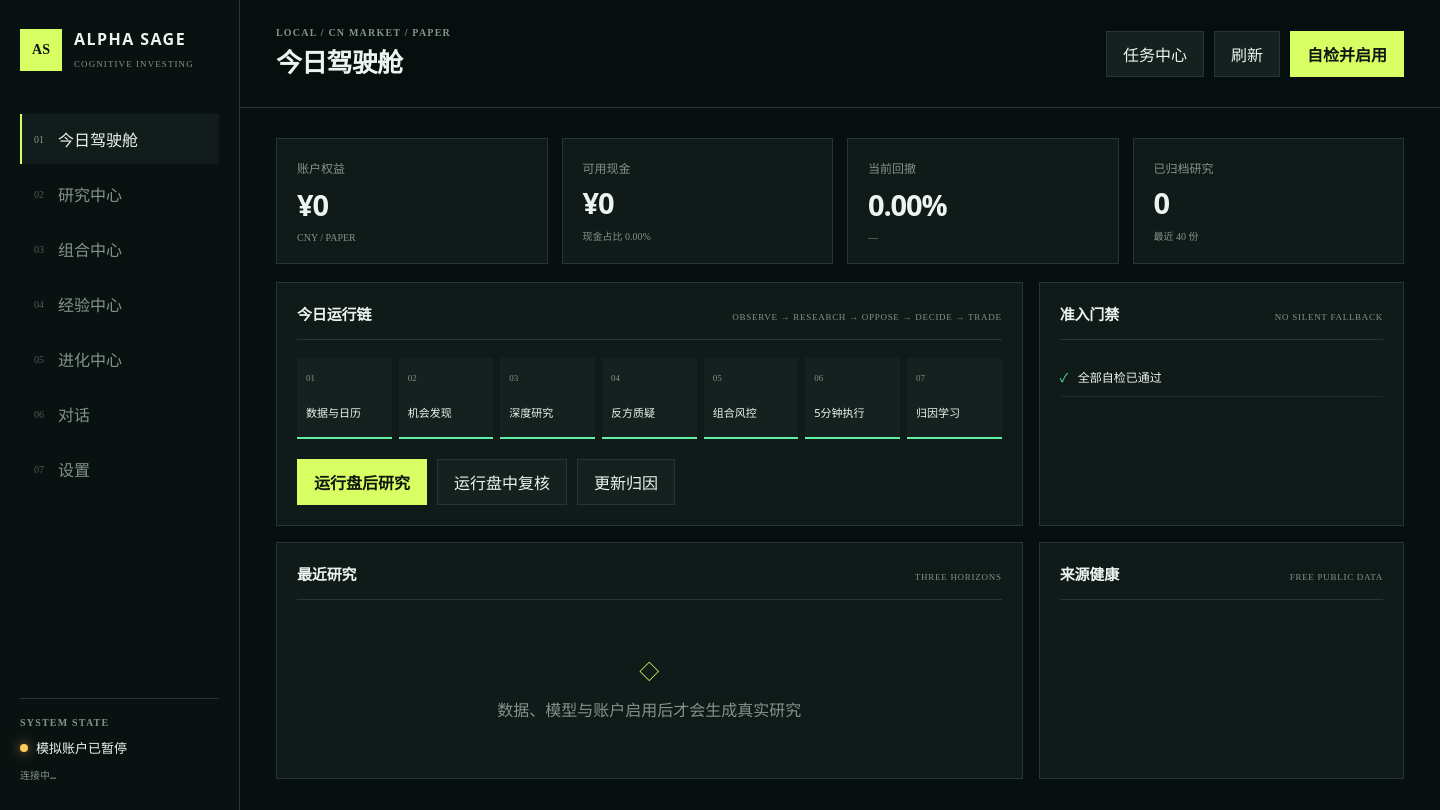
Test: DashboardShell › renders the local investment workbench navigation and task center
Expected: the text "ALPHA SAGE" is shown, [74,28,194,50]
Expected: the button "01 今日驾驶舱" is shown, [20,114,219,164]
What coordinates should you click on to do the following:
click the button "任务中心"
I would click on:
 (1155, 54)
Its box is [1106,30,1204,76].
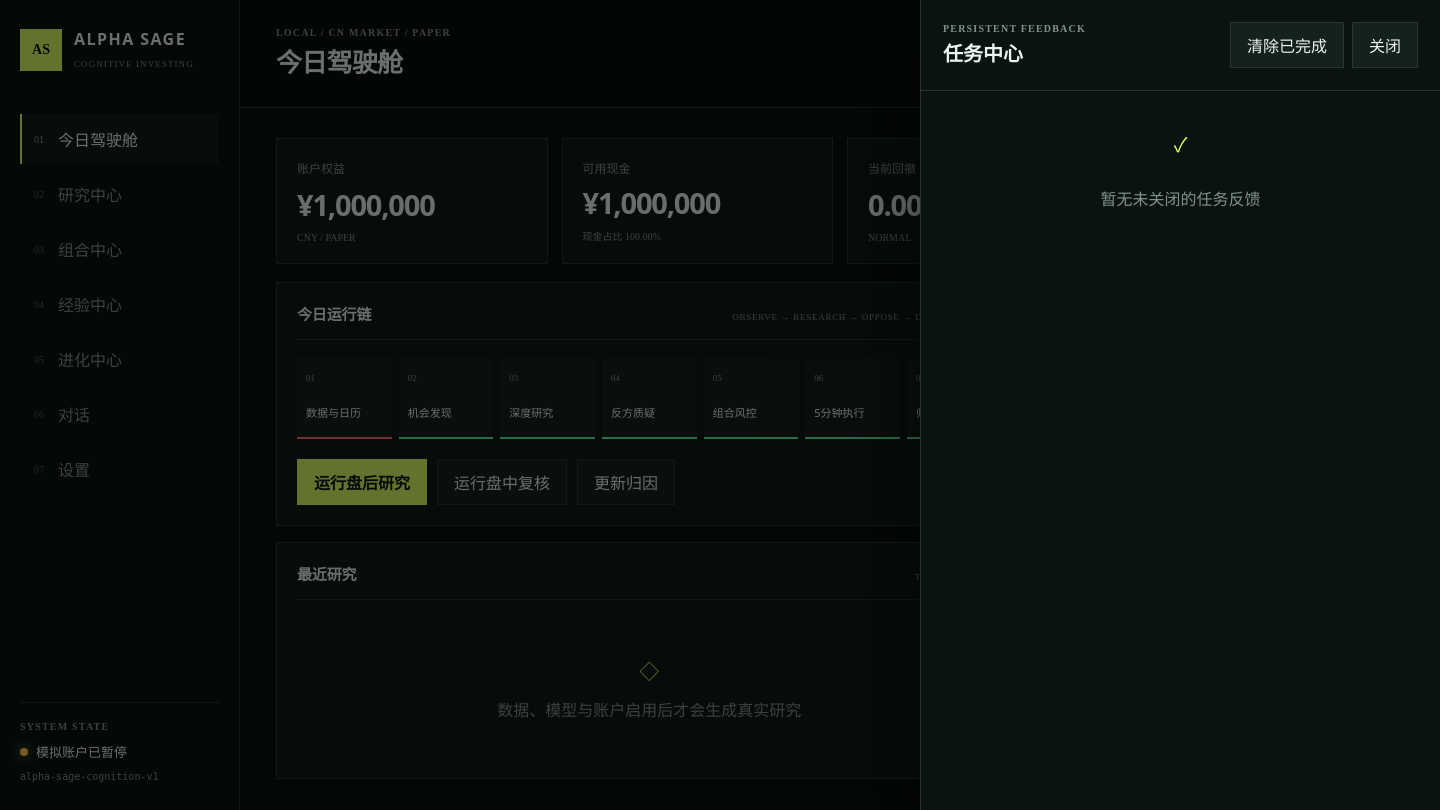
Expected: the heading "任务中心" is shown, [943,40,1023,67]
